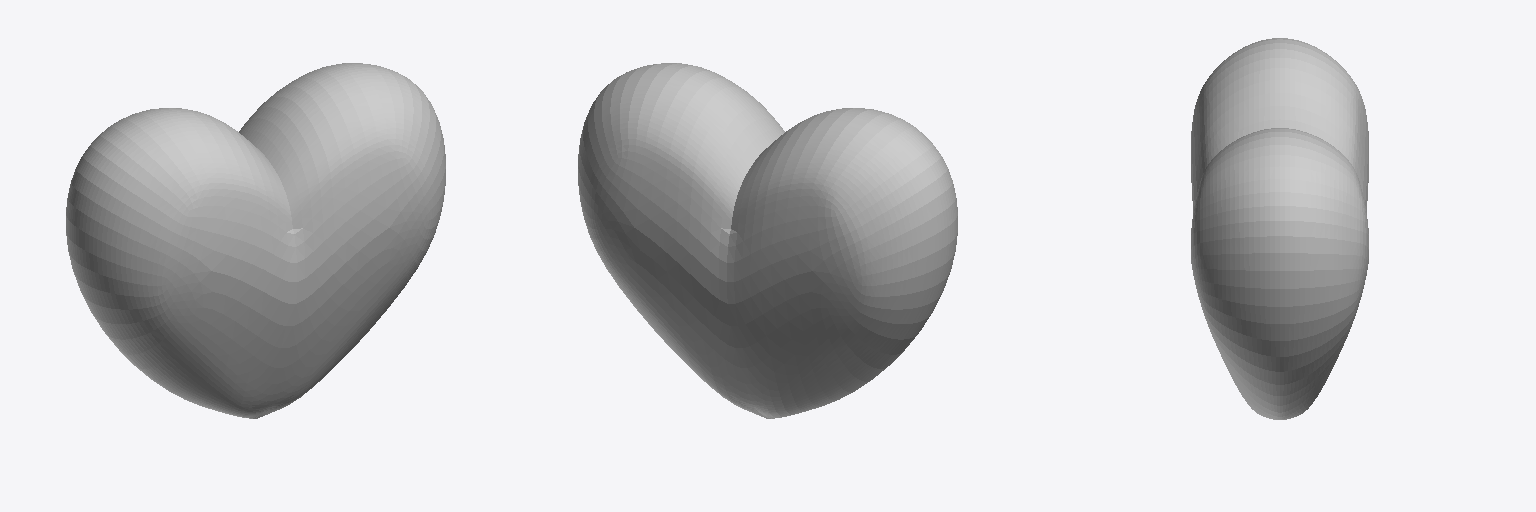
File: heart.obj
3 renders of one model, left to right at view 1: azimuth 30°, elevation 25°; view 2: azimuth 150°, elevation 25°; view 3: azimuth 270°, elevation 25°, orthographic.
Parts seen in each view (by area): view 1: Heart_HighPoly:Mesh; view 2: Heart_HighPoly:Mesh; view 3: Heart_HighPoly:Mesh.
Boxes of the visible parts, <box> form: Heart_HighPoly:Mesh: <box>66,63,445,418</box>; Heart_HighPoly:Mesh: <box>578,63,957,418</box>; Heart_HighPoly:Mesh: <box>1191,38,1368,419</box>.
Bounding box in the file's own units: 0.5666 × 0.4914 × 0.2442.